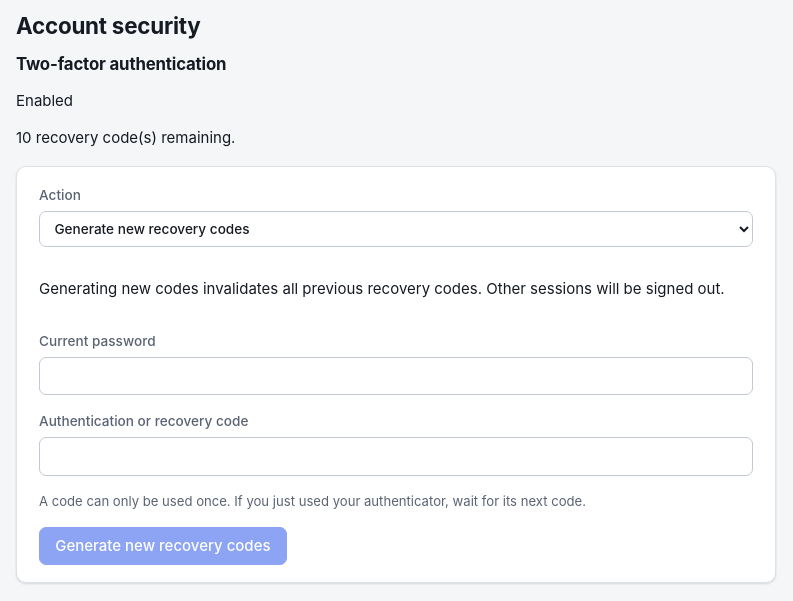
it: Security › requires reauthentication to regenerate recovery codes
Type "my current password" into the password field labelled "Current password" at x=396, y=376, box [39,357,753,395]
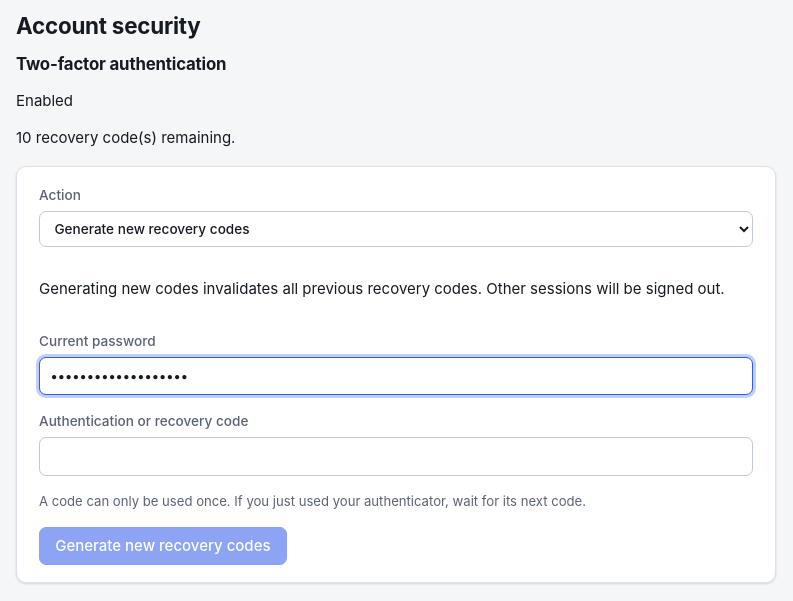
Type "123456" into the field labelled "Authentication or recovery code" at x=396, y=457, box [39,437,753,476]
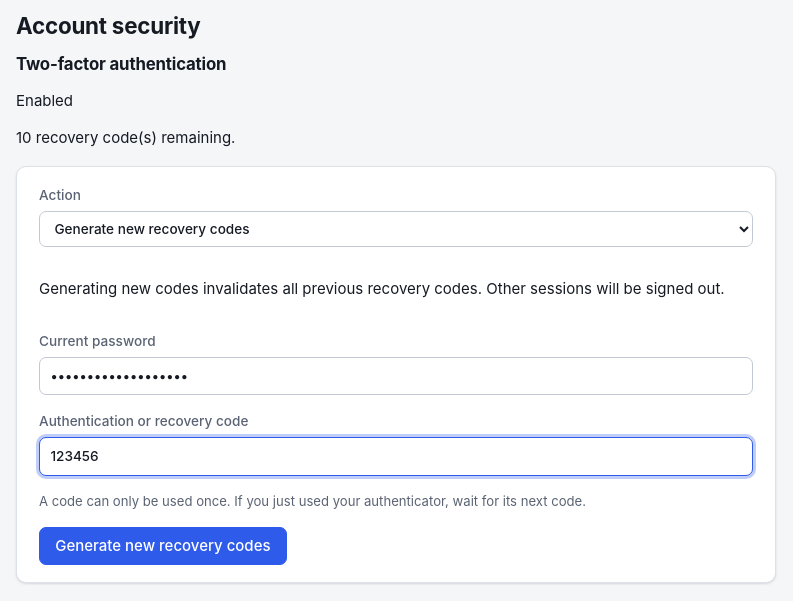
Click the button "Generate new recovery codes" at x=163, y=546, box [39,527,287,565]
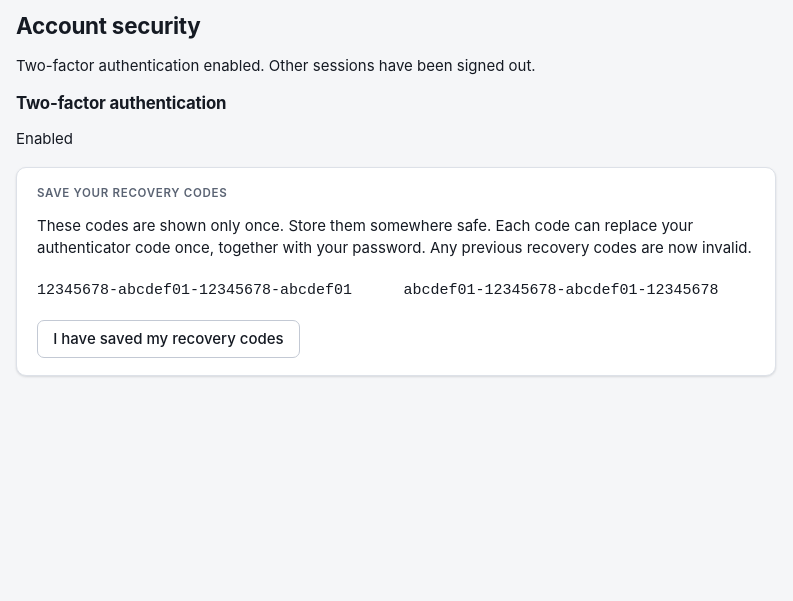
Result: the text "12345678-abcdef01-12345678-abcdef01" is shown at [37,282,352,299]
